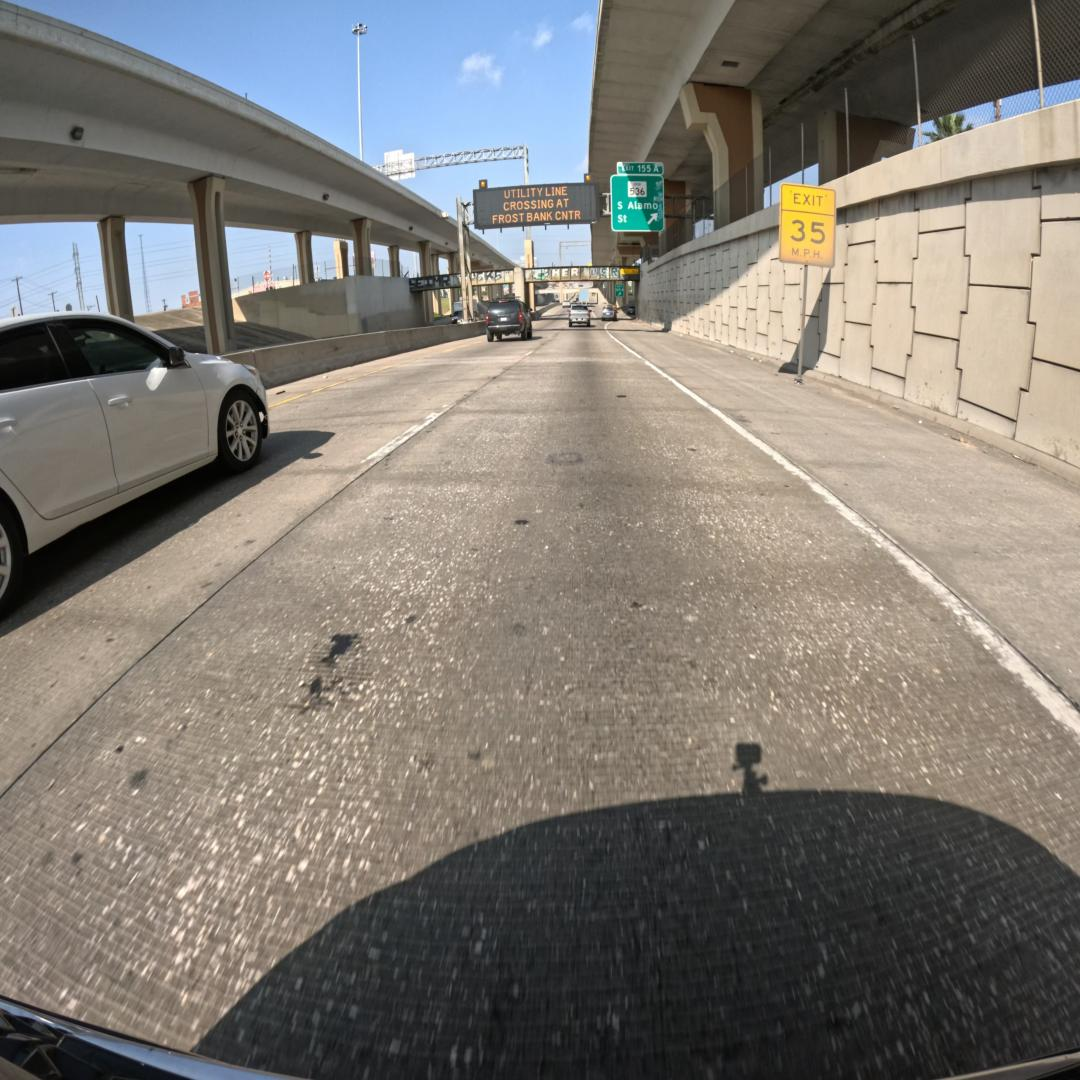lane0: (0, 336, 1080, 1080)
lane1: (0, 341, 539, 794)
